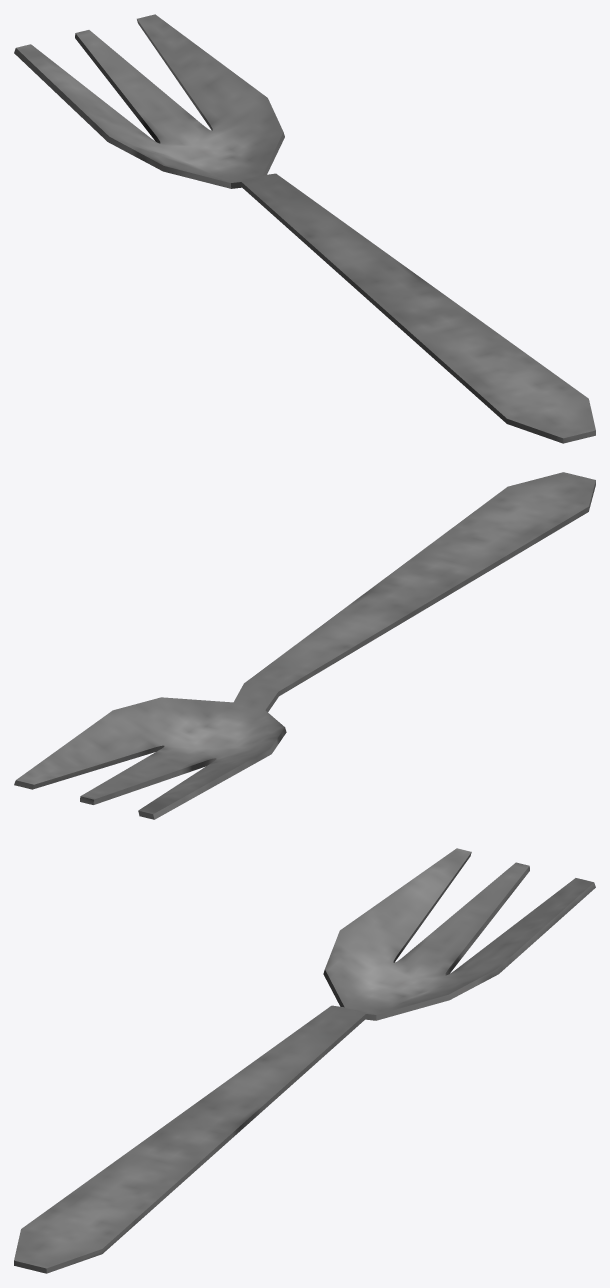
Rendered from Fork.fbx.
3 views of the same model, one above another, from view 1: azimuth 30°, elevation 25°; view 2: azimuth 150°, elevation 25°; view 3: azimuth 330°, elevation 25° (orthographic).
Visible parts, largest first — view 1: fork; view 2: fork; view 3: fork.
Part boxes in pixels (x1,y1,x2,y2): fork: [14, 14, 595, 443]; fork: [14, 472, 595, 819]; fork: [14, 848, 595, 1273].
Size of the model in its own units: 3.02 by 0.8021 by 16.09.
